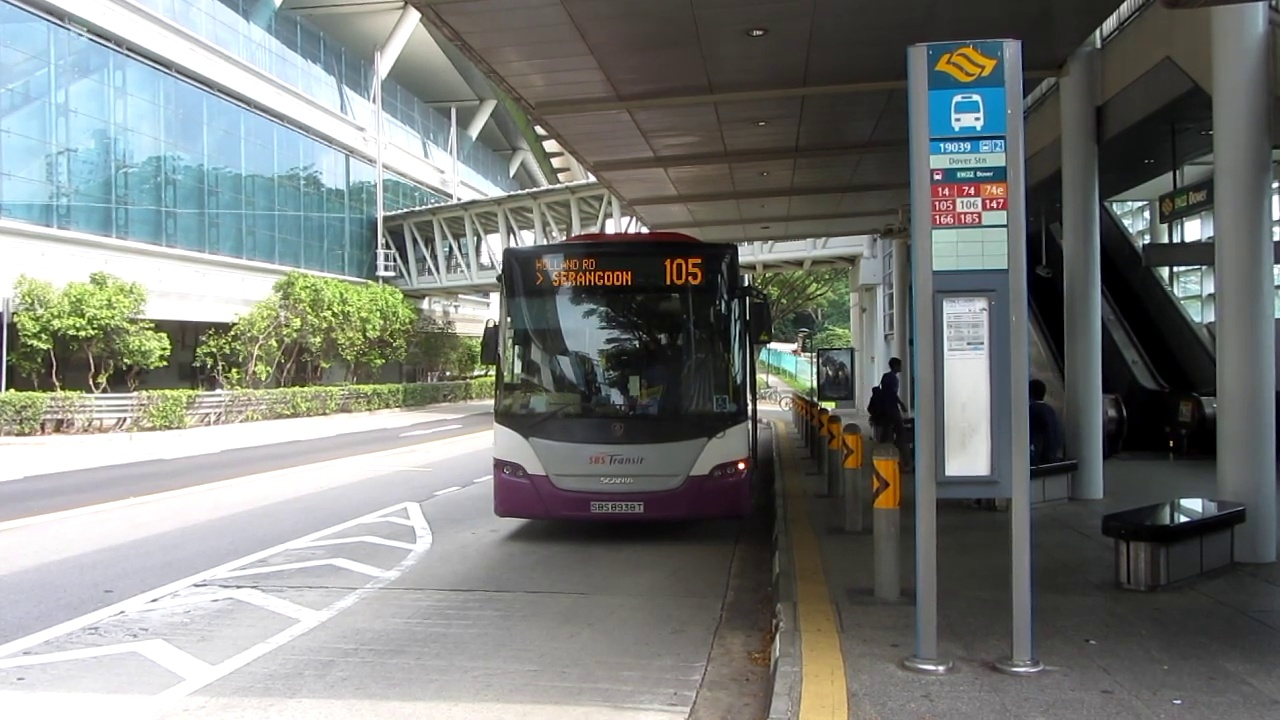bus panel: (526, 252, 711, 290)
